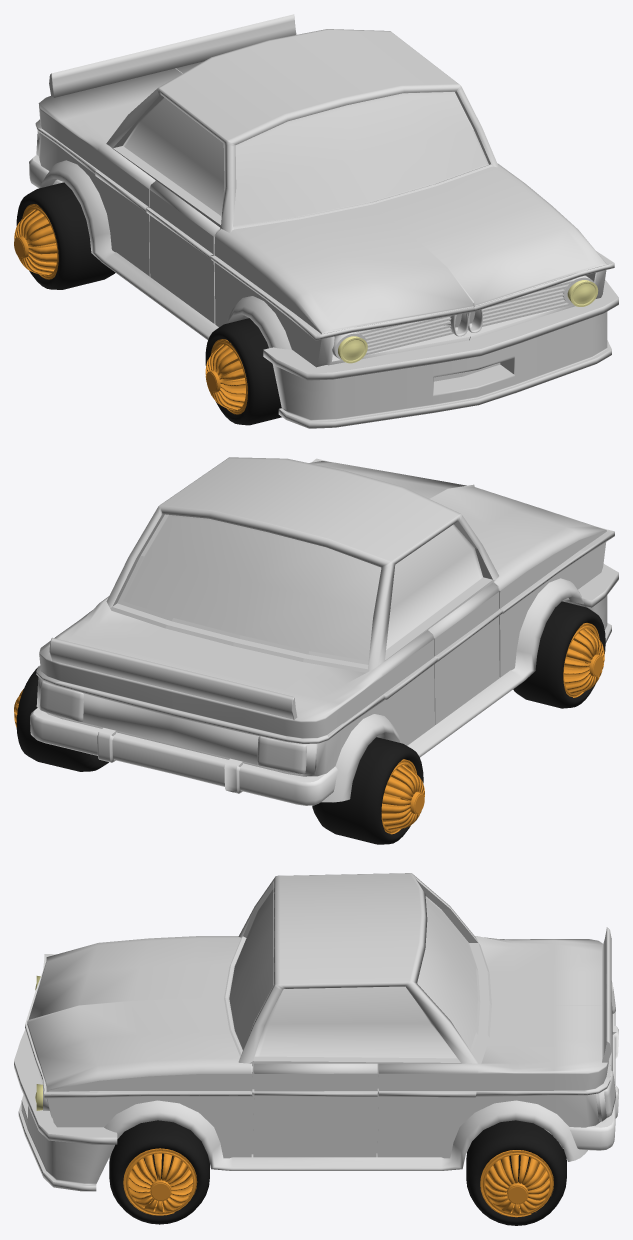
The picture shows the model from 3 angles, top to bottom: view 1: azimuth 30°, elevation 25°; view 2: azimuth 150°, elevation 25°; view 3: azimuth 270°, elevation 25°; orthographic projection. The views are drawn at different scales.
Visible parts, largest first — view 1: Cube.015, Wheel_4, Wheel_2; view 2: Cube.015, Wheel_4, Wheel_2, Wheel_3; view 3: Cube.015, Wheel_3, Wheel_1.
Boxes of the visible parts, x1,y1,x2,y2 form: Cube.015: (29, 14, 618, 428); Wheel_4: (14, 182, 115, 289); Wheel_2: (205, 318, 281, 425); Cube.015: (30, 457, 618, 805); Wheel_4: (312, 737, 424, 844); Wheel_2: (513, 601, 605, 708); Wheel_3: (14, 667, 108, 771); Cube.015: (14, 873, 618, 1191); Wheel_3: (466, 1120, 566, 1225); Wheel_1: (109, 1120, 209, 1224).
Size of the model in its own units: 393 by 225 by 533.
